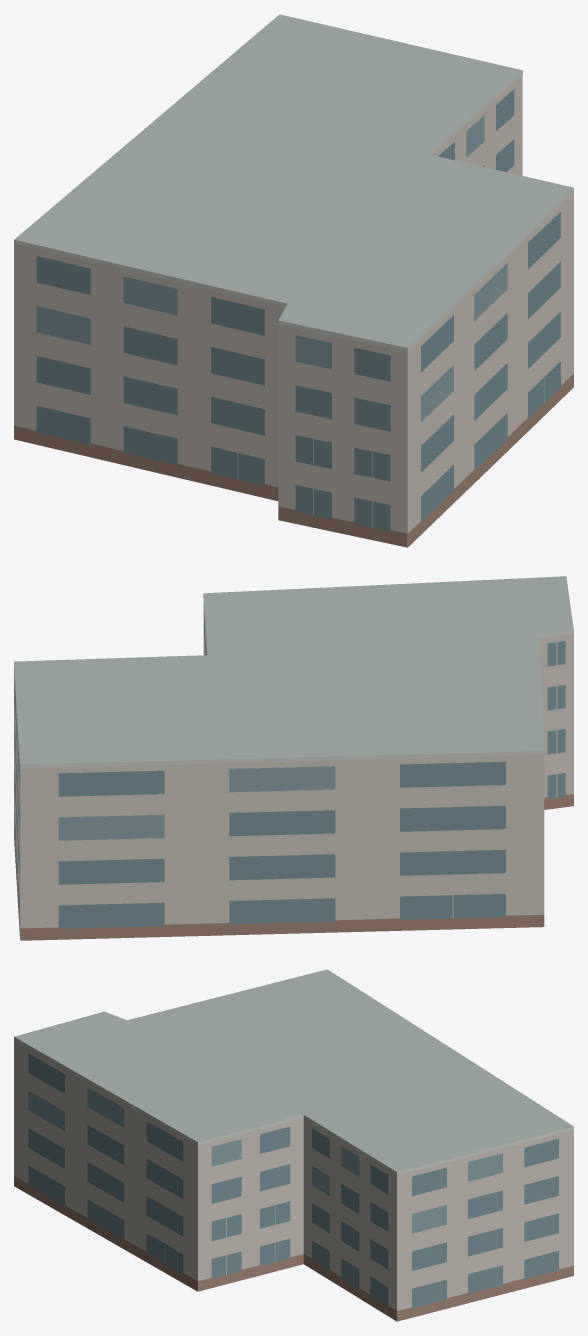
The model's file is survey-upis-32947392.glb.
3 renders of one model, top to bottom at view 1: azimuth 30°, elevation 25°; view 2: azimuth 150°, elevation 25°; view 3: azimuth 270°, elevation 25°, orthographic. The views are drawn at different scales.
Parts seen in each view (by area): view 1: survey-upis-32947392.tmp; view 2: survey-upis-32947392.tmp; view 3: survey-upis-32947392.tmp.
Boxes of the visible parts, x1,y1,x2,y2 form: survey-upis-32947392.tmp: [14, 14, 573, 547]; survey-upis-32947392.tmp: [14, 576, 573, 940]; survey-upis-32947392.tmp: [14, 969, 573, 1321].
Size of the model in its own units: 32.88 by 11.3 by 38.36.
